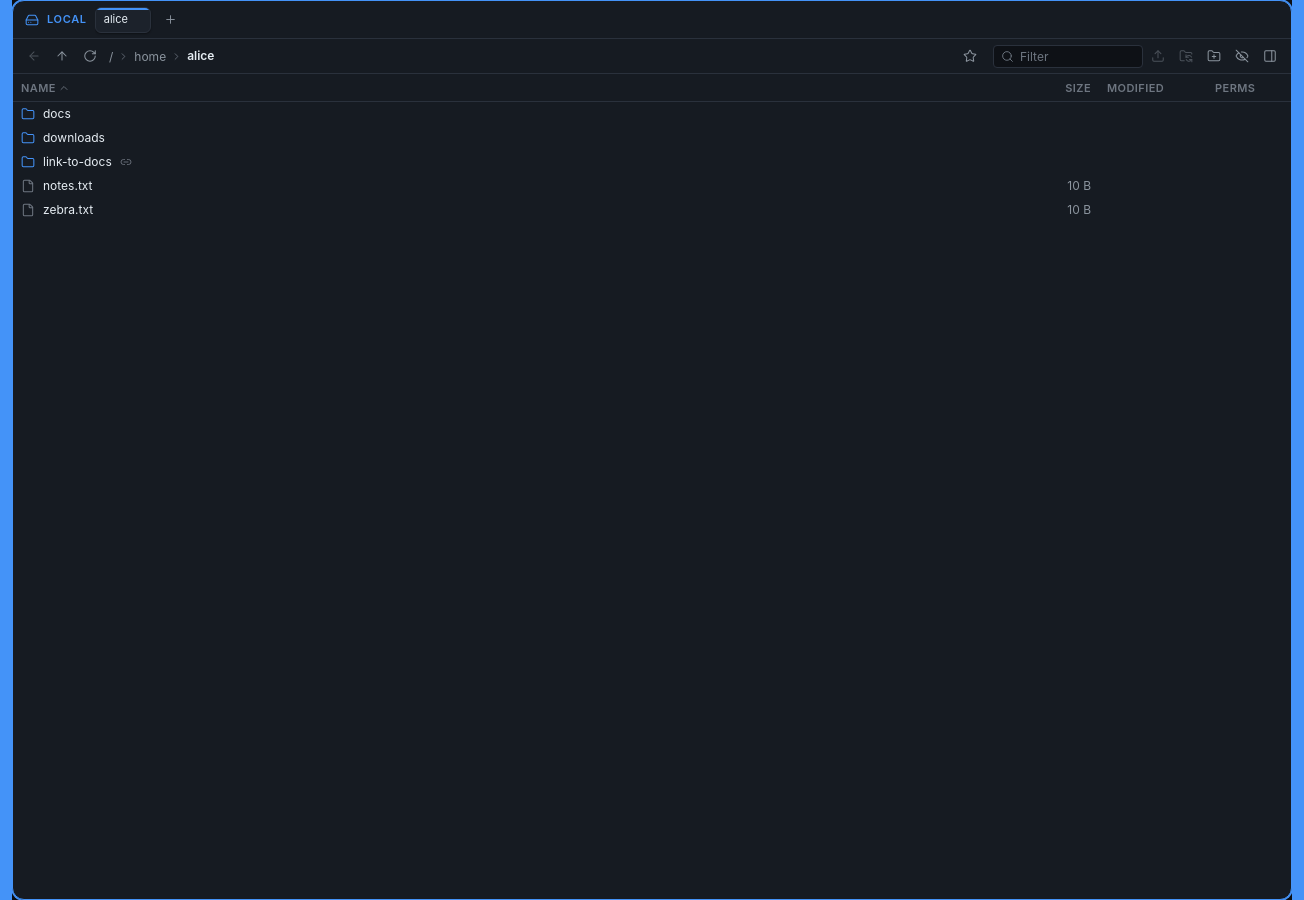
it: errors › keeps the field open with the text on a missing folder
Press p in the table, box [13,74,1291,217]
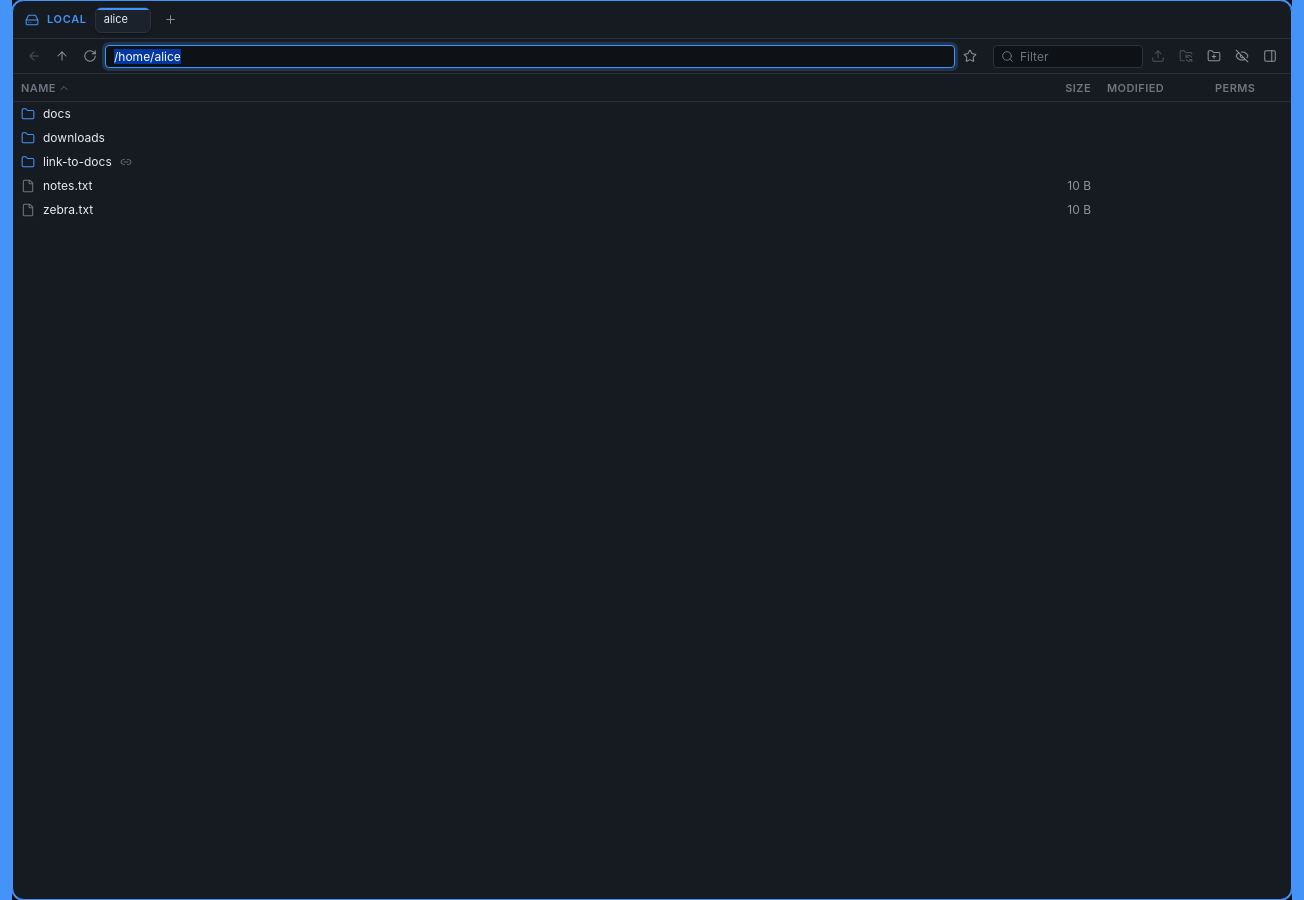
Replace the text in the field named "Go to path" with "/nope/missing". click: (530, 56)
box: [105,44,955,68]
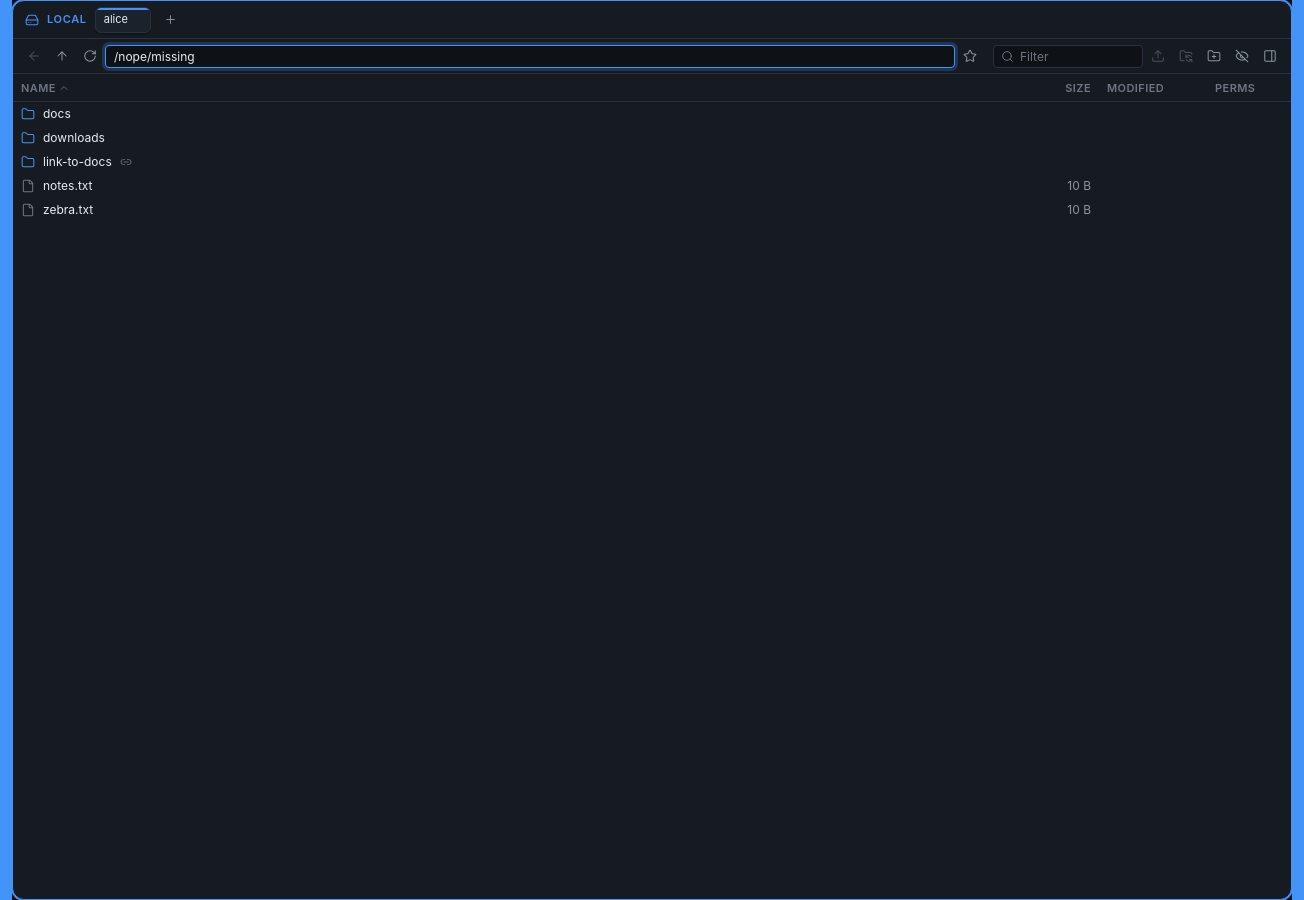
Press Enter in the field named "Go to path", box [105,44,955,68]
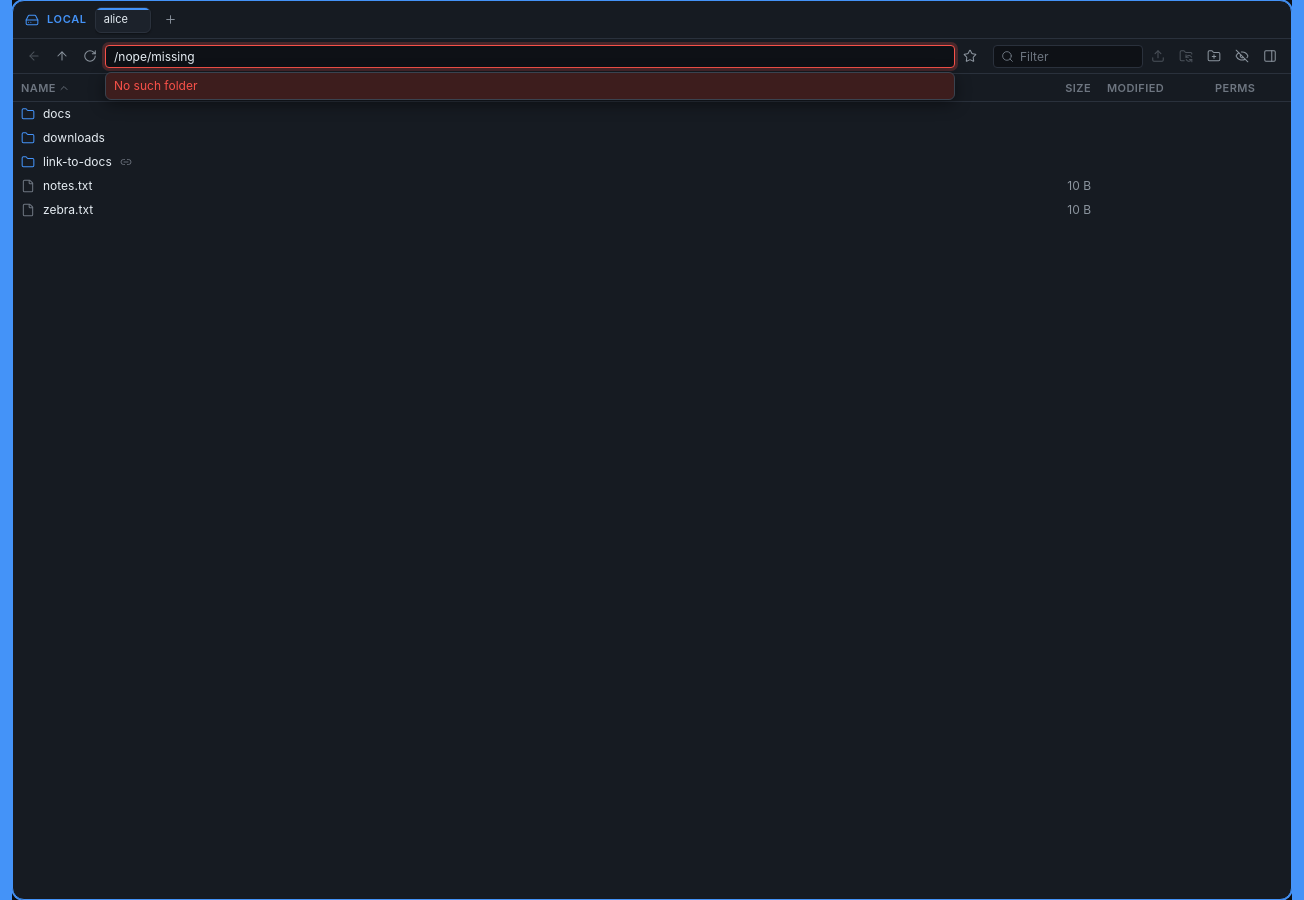
Check: the message reads "No such folder", box [114,78,197,92]
Replace the text in the field named "Go to path" with "/srv". click: (530, 56)
box: [105,44,955,68]
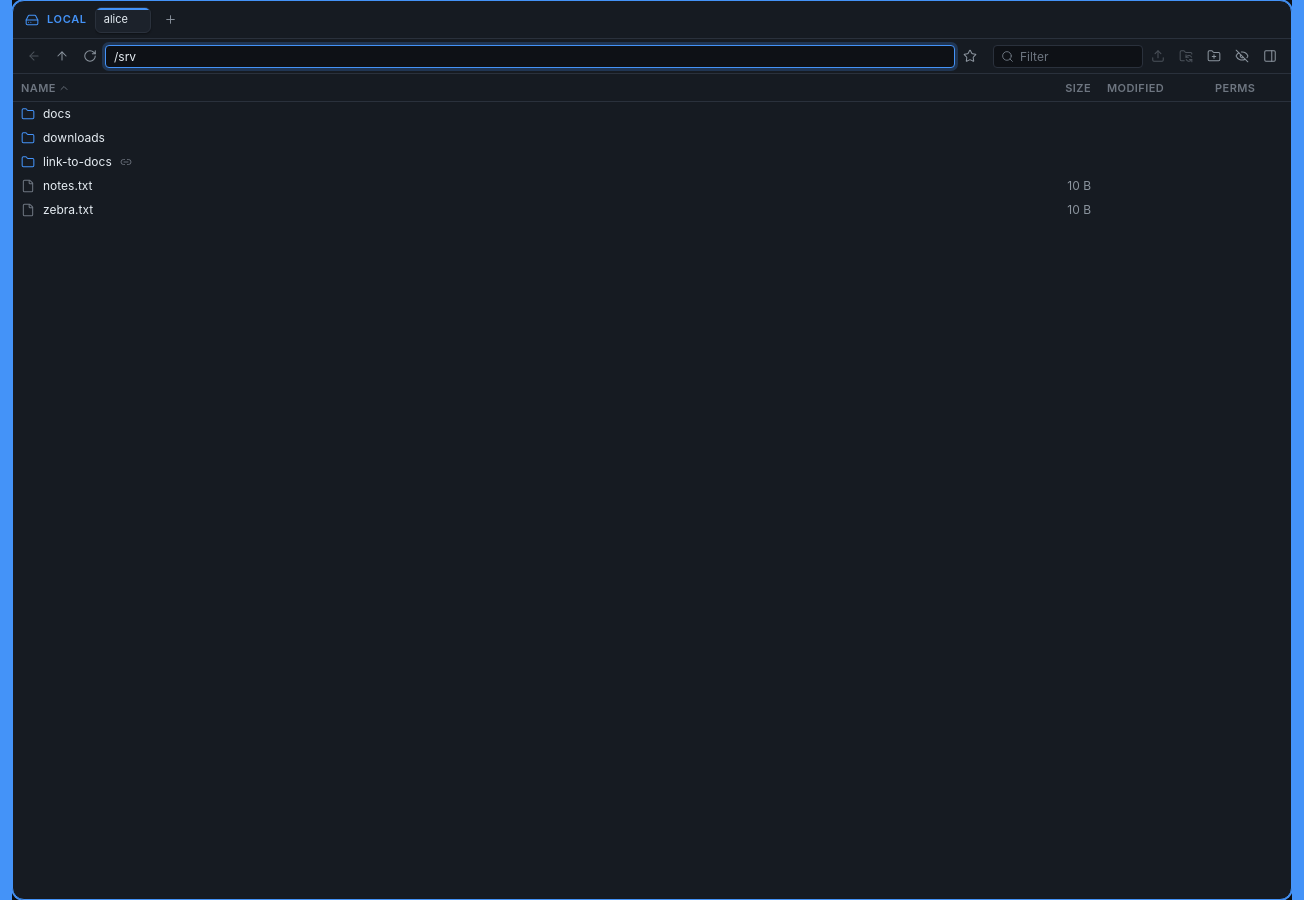
Check: the message "No such folder" is gone
